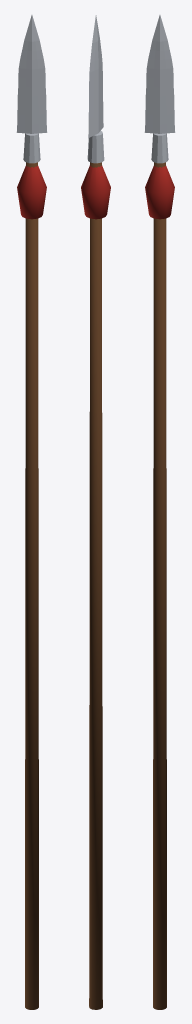
The model's file is spear.glb.
3 renders of one model, left to right at view 1: azimuth 90°, elevation 25°; view 2: azimuth 150°, elevation 25°; view 3: azimuth 270°, elevation 25°, orthographic.
Parts seen in each view (by area): view 1: spear; view 2: spear; view 3: spear.
Boxes of the visible parts, bbox=[...] form: spear: bbox=[16, 15, 47, 1009]; spear: bbox=[81, 15, 110, 1009]; spear: bbox=[144, 15, 175, 1009].
Bounding box in the file's own units: 0.0596 × 2.18 × 0.0605.
